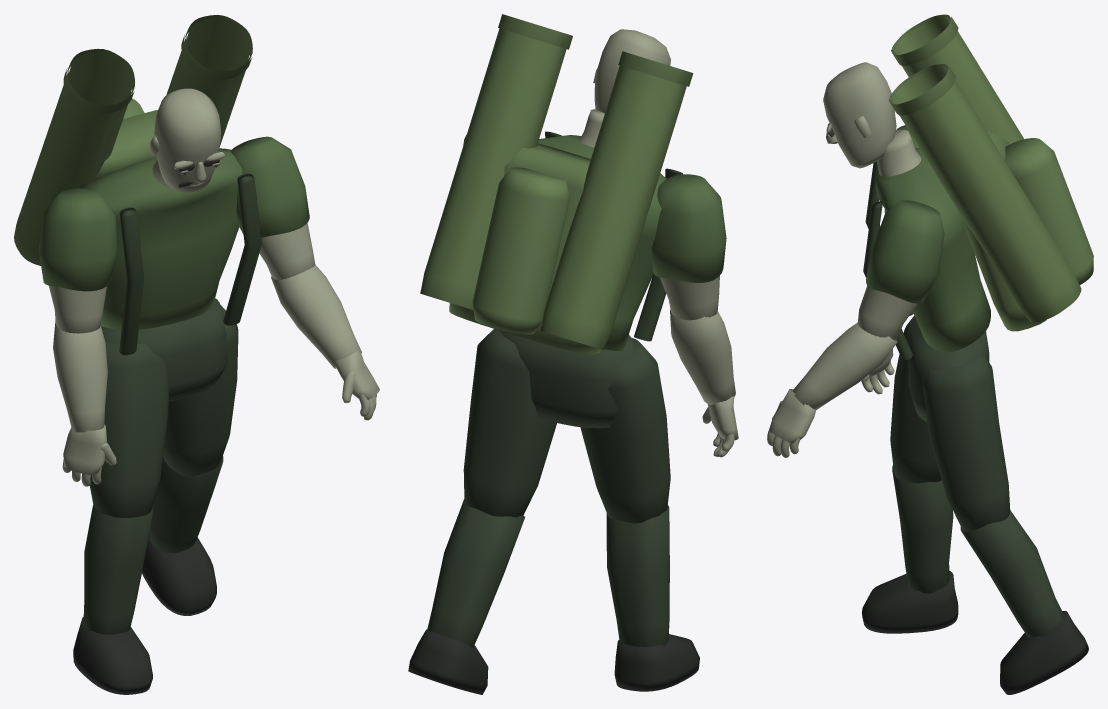
The model's file is enemy-lab-artilleryelite.glb.
The picture shows the model from 3 angles, left to right: view 1: azimuth 30°, elevation 25°; view 2: azimuth 150°, elevation 25°; view 3: azimuth 270°, elevation 25°; orthographic projection. The views are drawn at different scales.
Parts seen in each view (by area): view 1: Chest, Elite open tube_-1, Trouser thigh_L, Short sleeve_L, Trouser shin_L, Trouser thigh_R, Waist, Anatomical head, Short sleeve_R, Elite open tube_1, Forearm anatomy_L, Forearm anatomy_R (+12 smaller); view 2: Elite open tube_-1, Elite open tube_1, Trouser thigh_R, Elite reagent reservoir, Trouser thigh_L, Trouser shin_R, Trouser shin_L, Waist, Short sleeve_L, Forearm anatomy_L, Elite launcher rack, Shoe_L (+9 smaller); view 3: Elite open tube_1, Trouser thigh_R, Chest, Trouser shin_R, Short sleeve_R, Elite reagent reservoir, Anatomical head, Trouser shin_L, Elite open tube_-1, Forearm anatomy_R, Shoe_L, Shoe_R (+9 smaller).
Part boxes in pixels (x1,y1,x2,y2): Chest: (79,148,242,329); Elite open tube_-1: (14,51,133,265); Trouser thigh_L: (89,342,168,518); Short sleeve_L: (38,188,117,291); Trouser shin_L: (83,505,153,634); Trouser thigh_R: (163,305,238,476); Waist: (101,298,227,401); Anatomical head: (154,88,221,192); Short sleeve_R: (231,136,309,237); Elite open tube_1: (166,17,250,147); Forearm anatomy_L: (53,321,107,432); Forearm anatomy_R: (271,265,361,368); Elite open tube_-1: (540,65,686,350); Elite open tube_1: (420,28,566,309); Trouser thigh_R: (463,329,556,517); Elite reagent reservoir: (472,167,570,334); Trouser thigh_L: (580,337,670,523); Trouser shin_R: (427,499,524,647); Trouser shin_L: (606,505,669,646); Waist: (500,331,635,428); Short sleeve_L: (651,174,726,282); Forearm anatomy_L: (670,310,735,404); Elite launcher rack: (449,143,600,354); Shoe_L: (614,634,699,691); Elite open tube_1: (891,66,1081,322); Trouser thigh_R: (922,352,1010,531); Chest: (876,148,990,352); Trouser shin_R: (960,510,1063,637); Short sleeve_R: (866,200,944,303); Elite reagent reservoir: (1005,138,1093,284); Anatomical head: (823,62,896,168); Trouser shin_L: (892,465,953,593); Elite open tube_-1: (893,17,1023,144); Forearm anatomy_R: (792,323,897,409); Shoe_L: (861,570,958,633); Shoe_R: (1000,611,1088,694).
Size of the model in its own units: 0.7902 by 1.74 by 0.8427.
